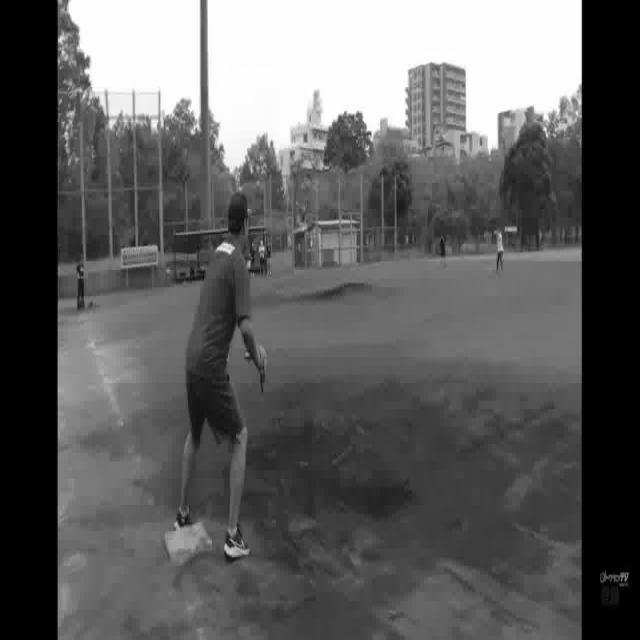base: (165, 518, 213, 566)
baseball_glove: (243, 346, 270, 392)
shoe: (224, 530, 250, 560), (172, 505, 201, 525)
